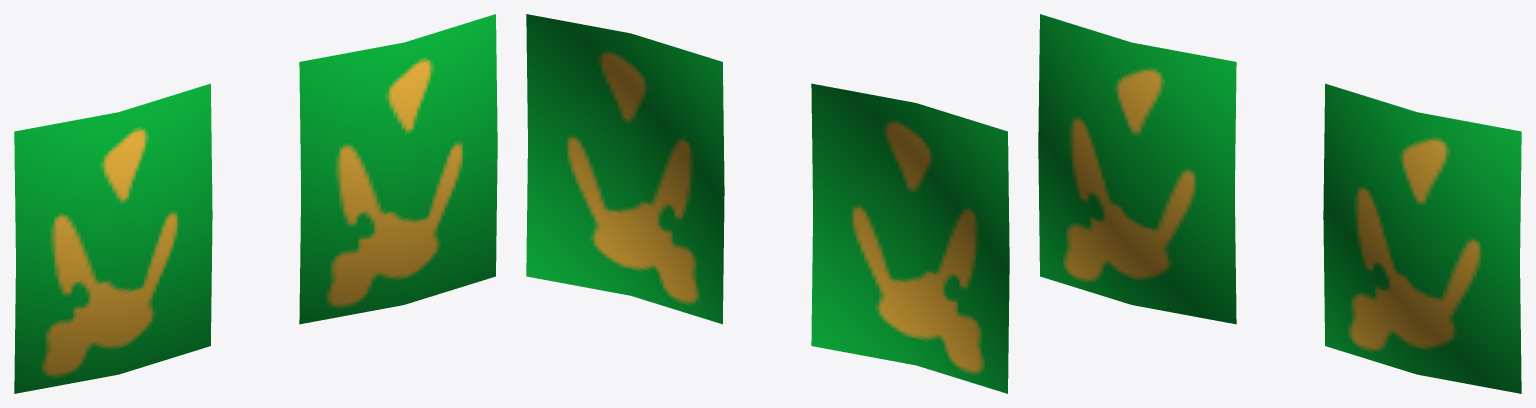
Rendered from p_mesh_trashbot_slimewave_splashplane03.fbx.
3 renders of one model, left to right at view 1: azimuth 30°, elevation 25°; view 2: azimuth 150°, elevation 25°; view 3: azimuth 330°, elevation 25°, orthographic.
Visible parts, largest first — view 1: p_trashbot_slimewave_splashplane03; view 2: p_trashbot_slimewave_splashplane03; view 3: p_trashbot_slimewave_splashplane03.
Part boxes in pixels (x1,y1,x2,y2): p_trashbot_slimewave_splashplane03: (14, 14, 497, 393); p_trashbot_slimewave_splashplane03: (526, 14, 1009, 393); p_trashbot_slimewave_splashplane03: (1038, 14, 1521, 393).
Bounding box in the file's own units: 12.5 × 6.51 × 0.3597.
